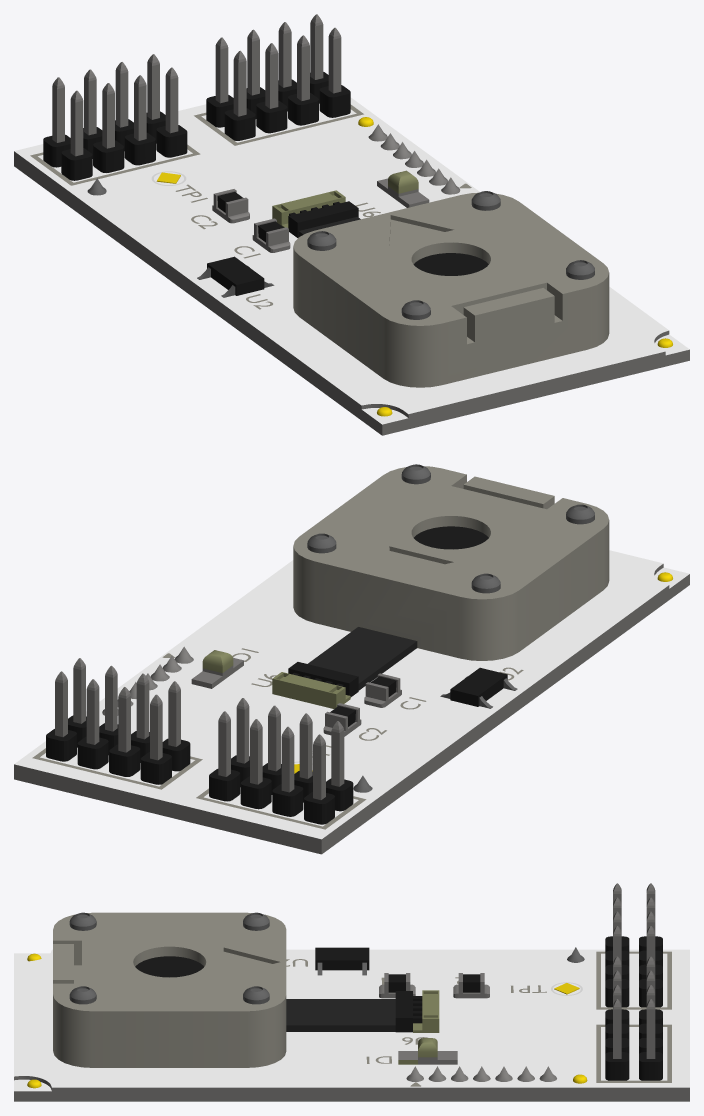
The model's file is BMV080.glb.
3 renders of one model, top to bottom at view 1: azimuth 30°, elevation 25°; view 2: azimuth 150°, elevation 25°; view 3: azimuth 270°, elevation 25°, orthographic. The views are drawn at different scales.
Parts seen in each view (by area): view 1: Text.010; view 2: Text.010; view 3: Text.010.
Part boxes in pixels (x1,y1,x2,y2): Text.010: (14, 14, 689, 435); Text.010: (14, 464, 689, 854); Text.010: (14, 883, 689, 1101).
Size of the model in its own units: 1.05 by 0.3207 by 2.17.
